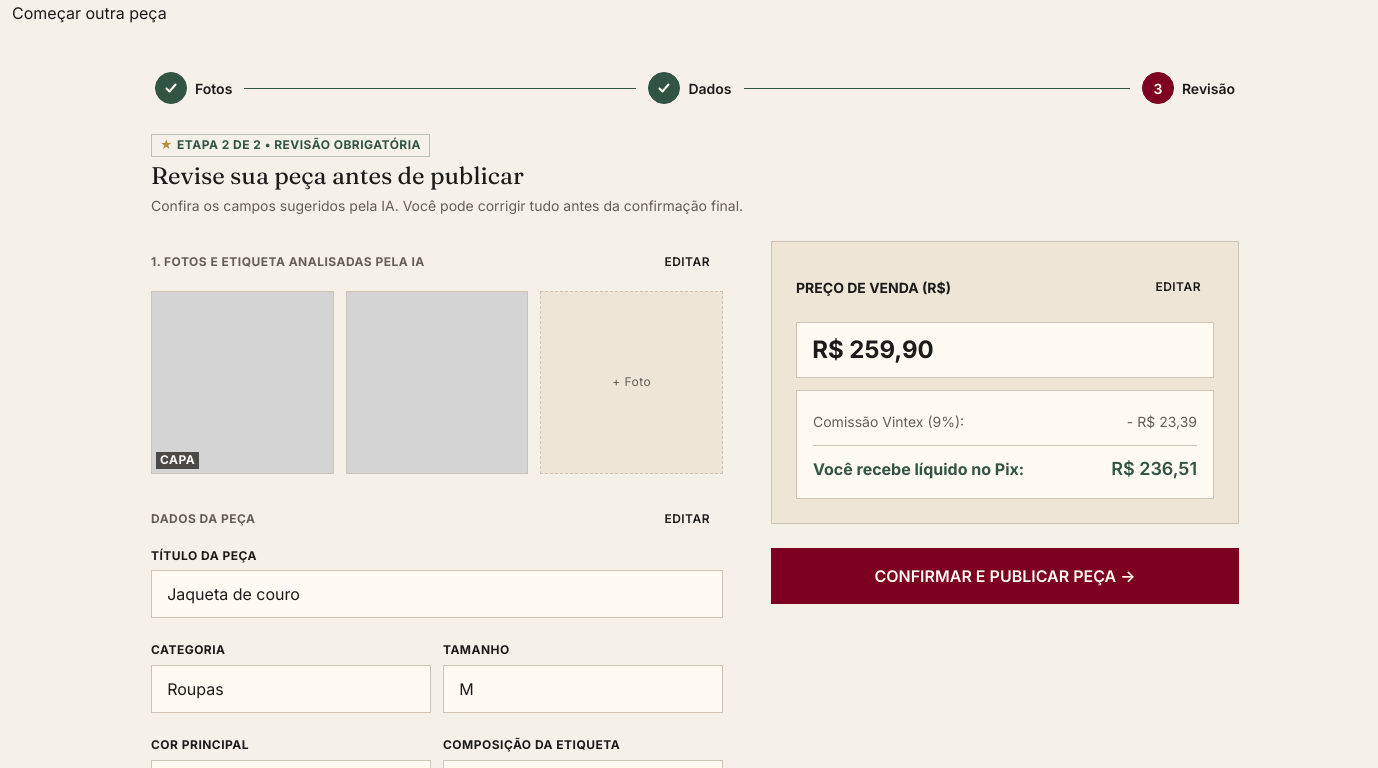
Test: Review › "Editar preço" volta ao formulário focando Preço
Step 1. Click the button with aria-label "Editar preço" → (1178, 288), box [1142, 266, 1214, 310]
(page scrolled)
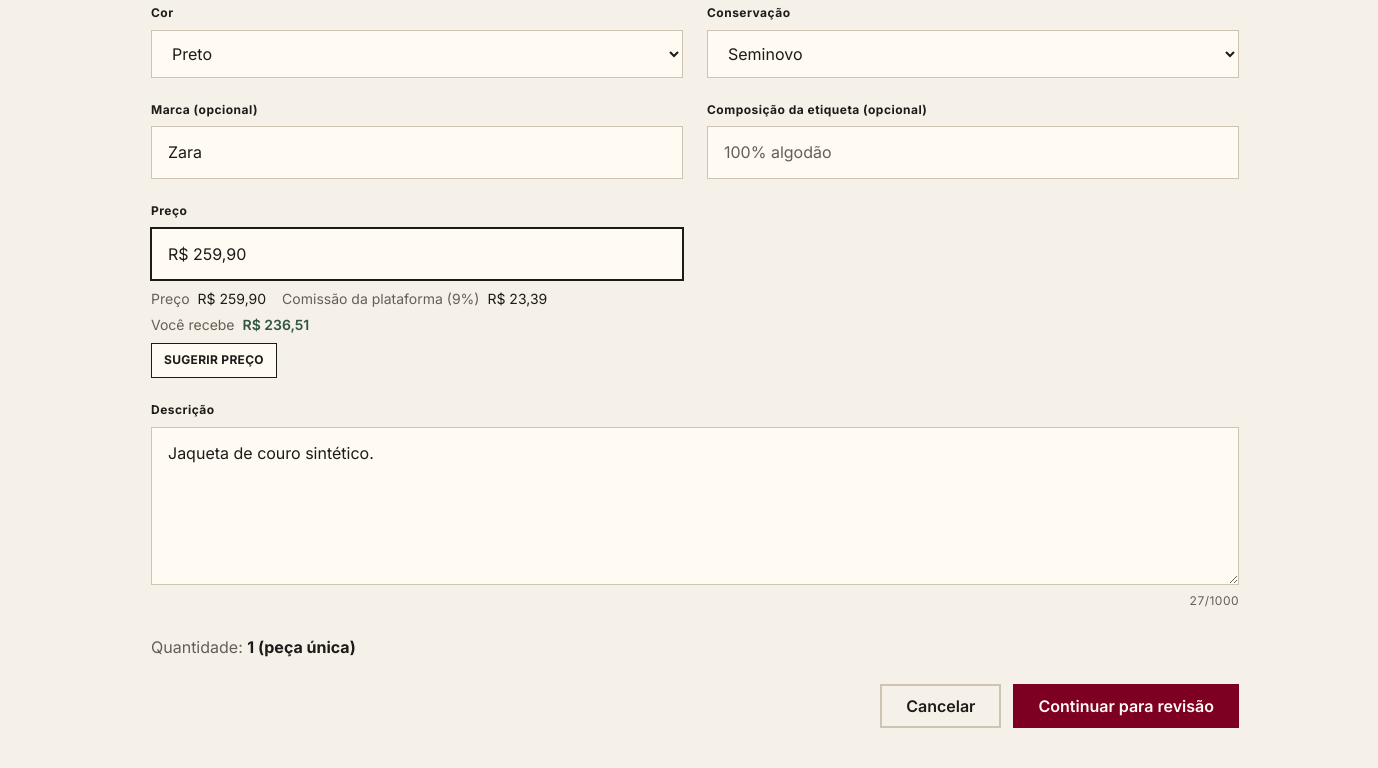
expect the button "Continuar para revisão" is shown: met, box [1014, 684, 1239, 728]
